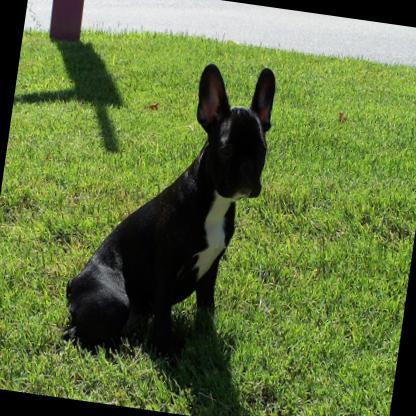French_bulldog: (55, 41, 282, 372)
